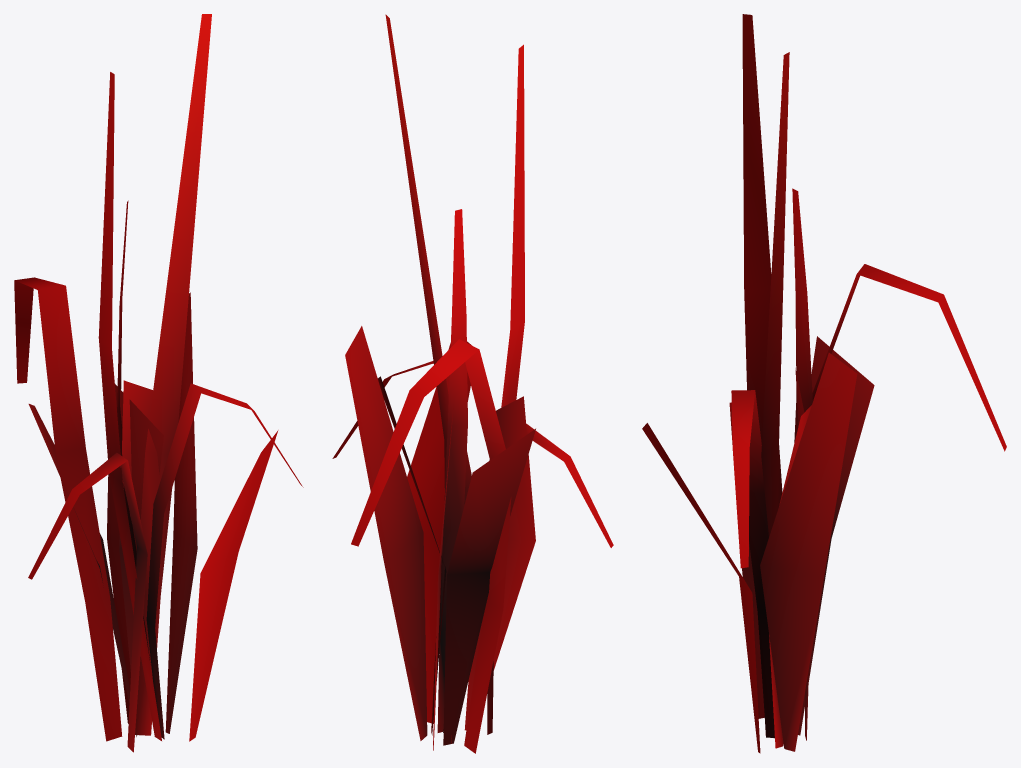
Rendered from SM_RicePlants_2.fbx.
3 views of the same model, side by side, from view 1: azimuth 30°, elevation 25°; view 2: azimuth 150°, elevation 25°; view 3: azimuth 270°, elevation 25° (orthographic).
Visible parts, largest first — view 1: SM_RicePlants_2; view 2: SM_RicePlants_2; view 3: SM_RicePlants_2.
Boxes of the visible parts, <box> form: SM_RicePlants_2: <box>14,14,303,752</box>; SM_RicePlants_2: <box>332,14,613,753</box>; SM_RicePlants_2: <box>642,14,1006,753</box>.
Bounding box in the file's own units: 0.2817 × 0.6969 × 0.3215.
